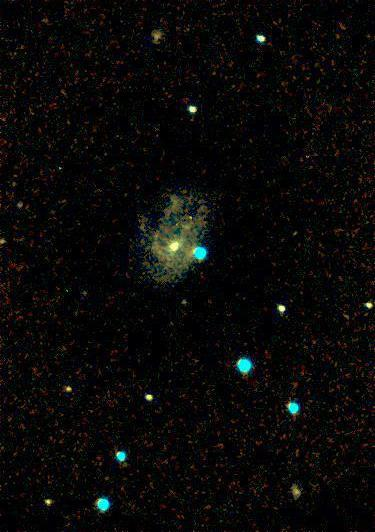star: (68, 278, 98, 308)
